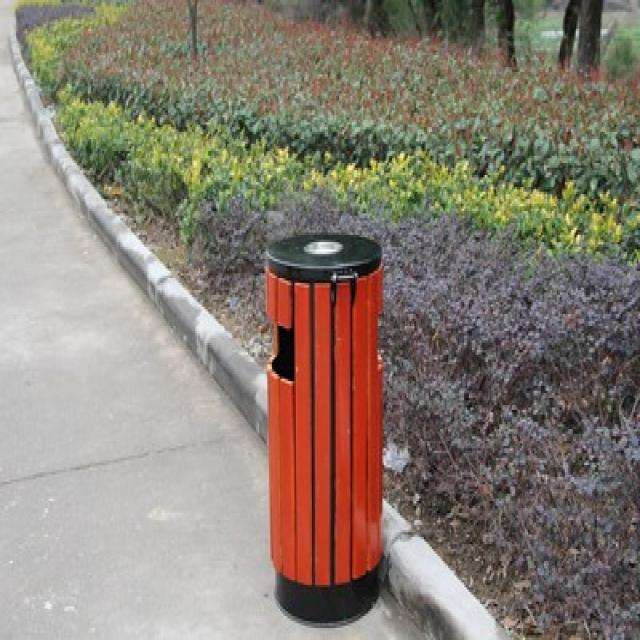ash bin: (257, 220, 388, 626)
